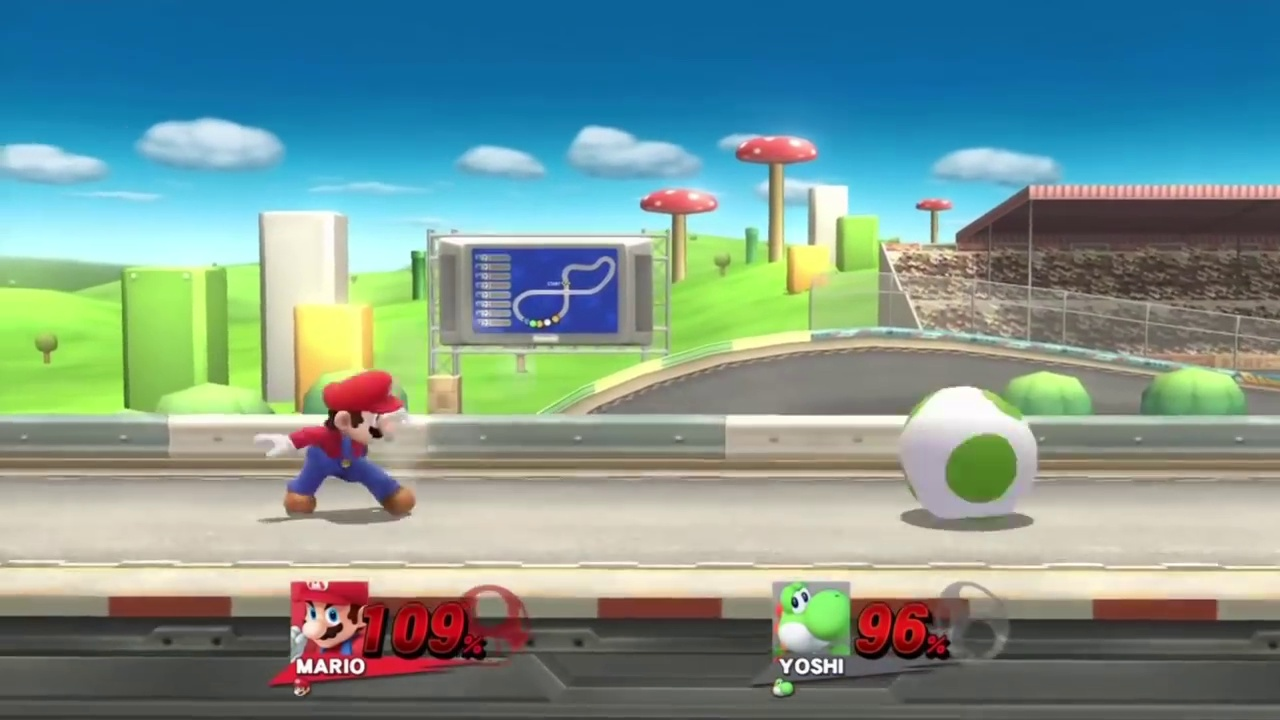Mario: (254, 372, 418, 517)
